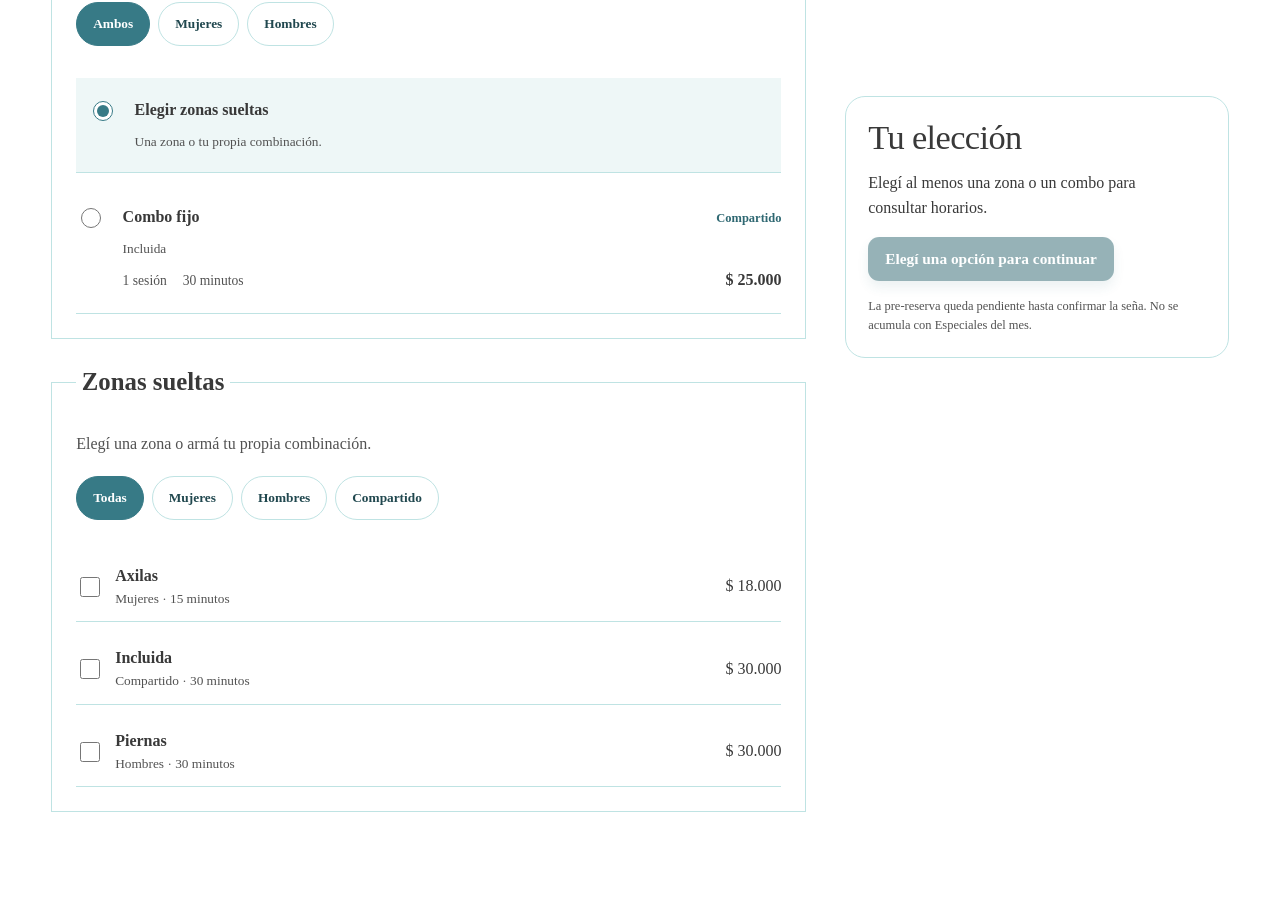
Test case: depilation order selector › keeps the combo price, discounts only two extras, and cannot repeat included zones
(page scrolled)
Click the checkbox labelled "Incluida Compartido · 30 minutos $ 30.000" at (90, 669), box [80,659,100,679]
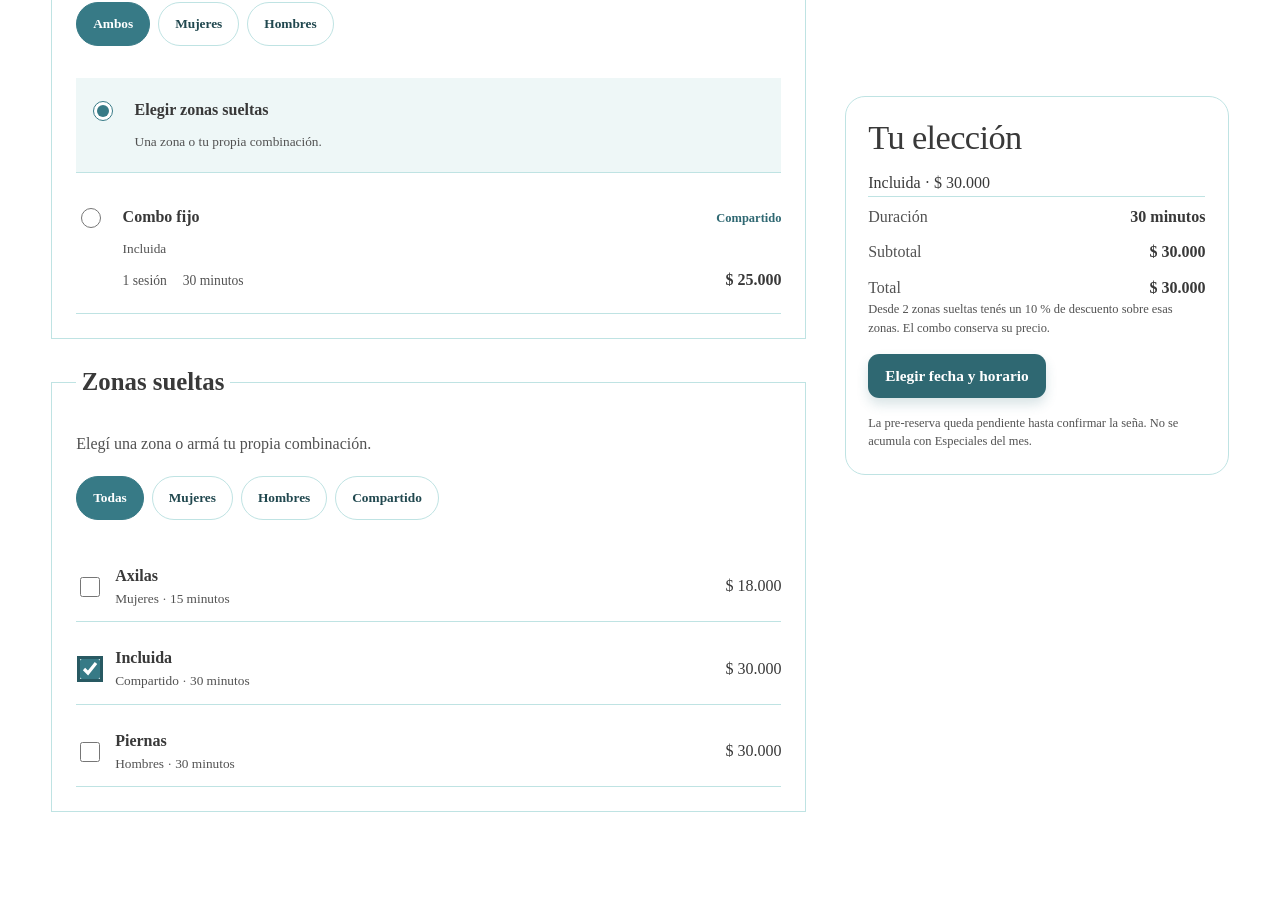
Click the radio button labelled "Combo fijo Compartido Incluida 1 sesión 30 minutos $ 25.000" at (91, 218), box [81,208,101,228]
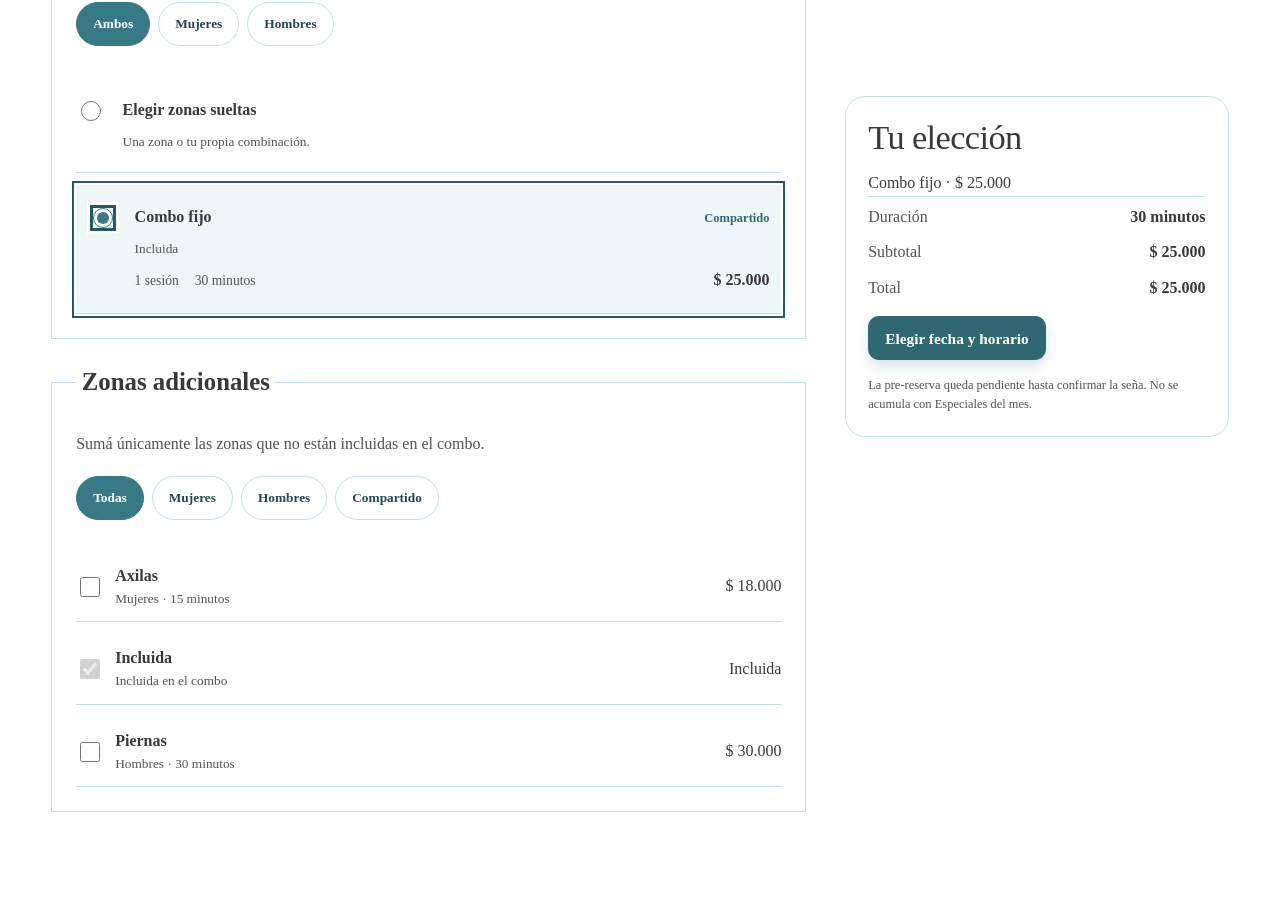
Expected: the text "Descuento en zonas" is not shown
Expected: the checkbox labelled "Incluida Incluida en el combo Incluida" is disabled, [80,659,100,679]
Expected: the text "$ 25.000" in the row of "Subtotal" is shown, [1149,243,1205,260]
Click the checkbox labelled "Axilas Mujeres · 15 minutos $ 18.000" at (90, 587), box [80,577,100,597]
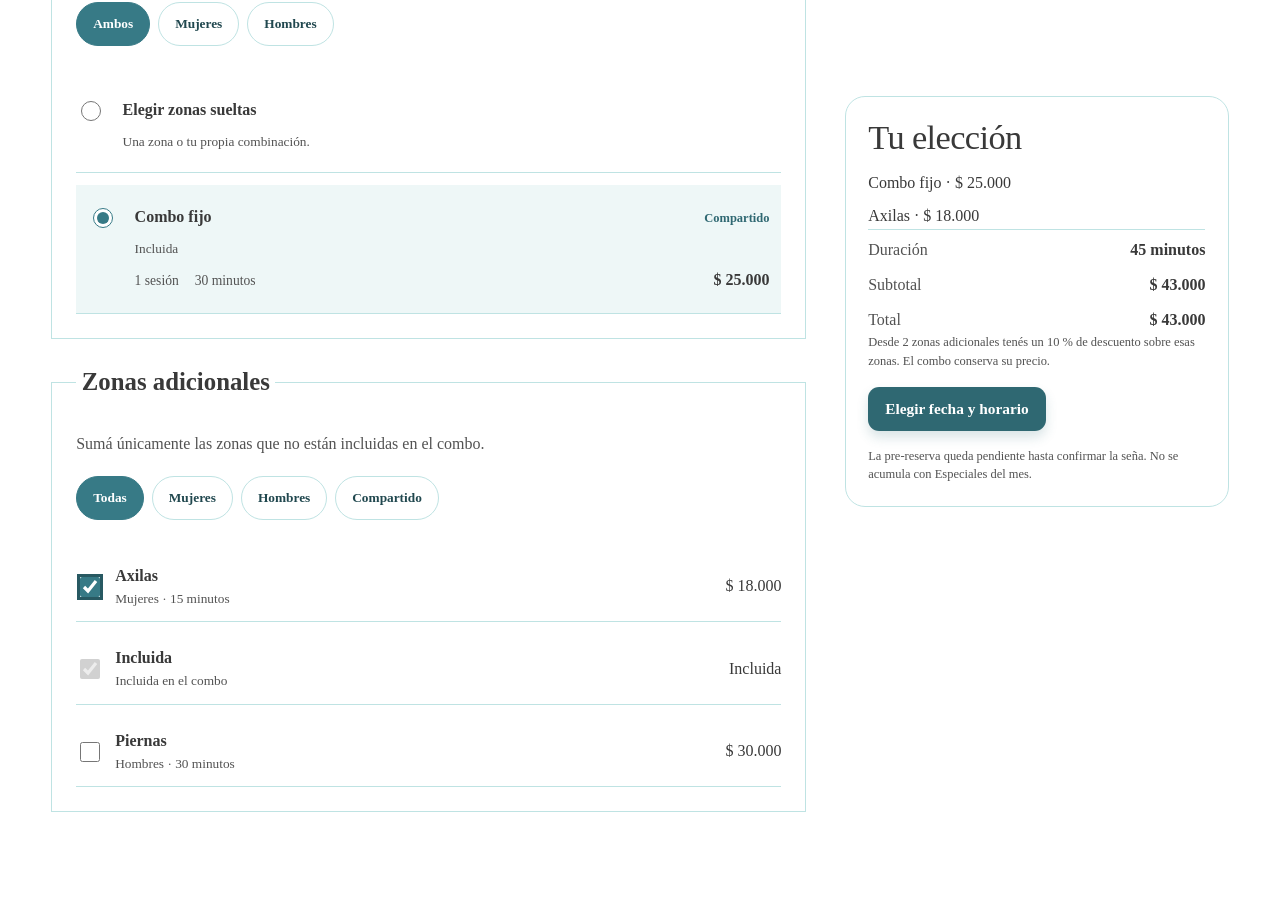
Expected: the text "Descuento en zonas" is not shown
Expected: the text "$ 43.000" is shown 2 times, [1149,273,1205,298]; [1149,308,1205,333]
Click the checkbox labelled "Piernas Hombres · 30 minutos $ 30.000" at (90, 752), box [80,742,100,762]
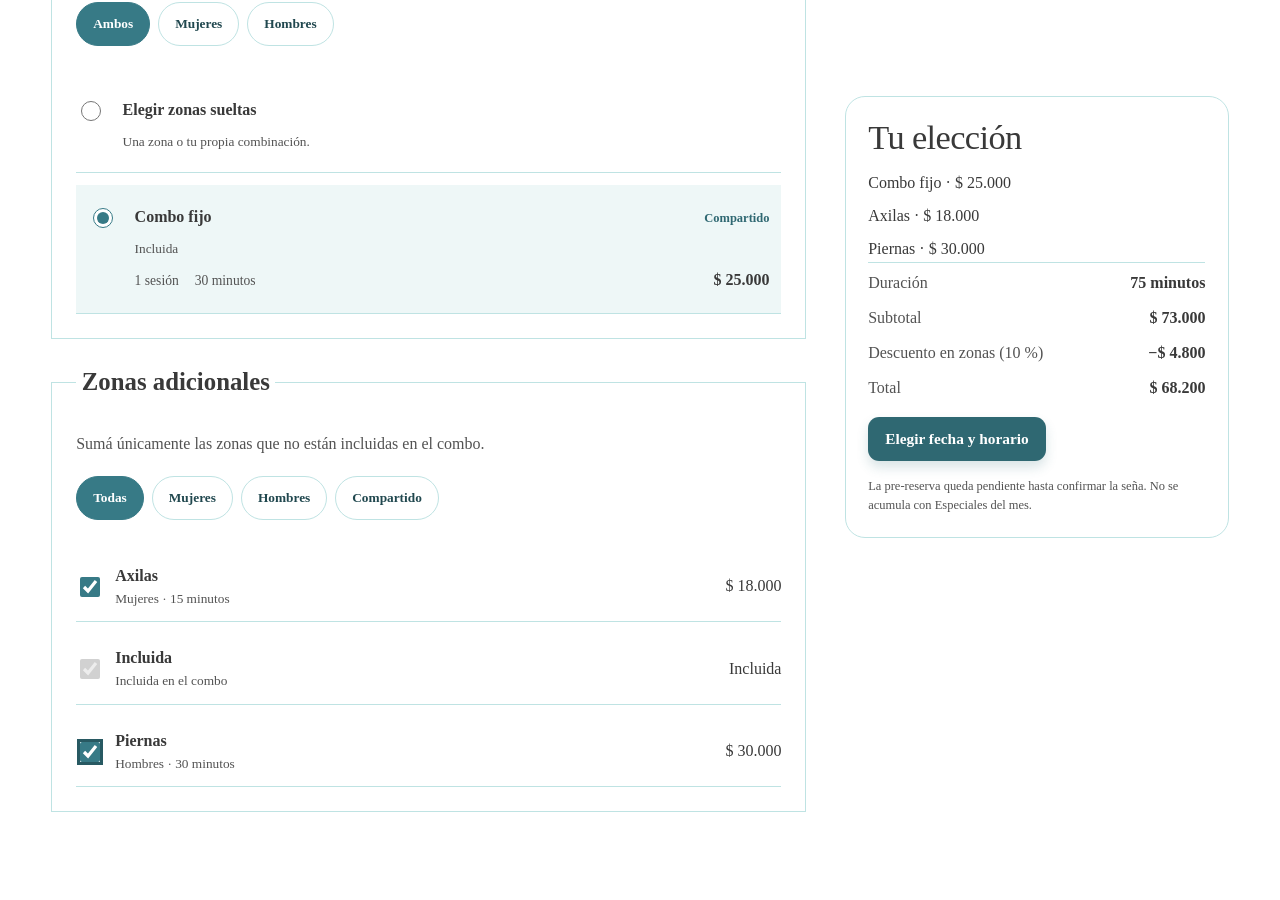
Expected: the text "$ 68.200" is shown, [1149,376,1205,401]
